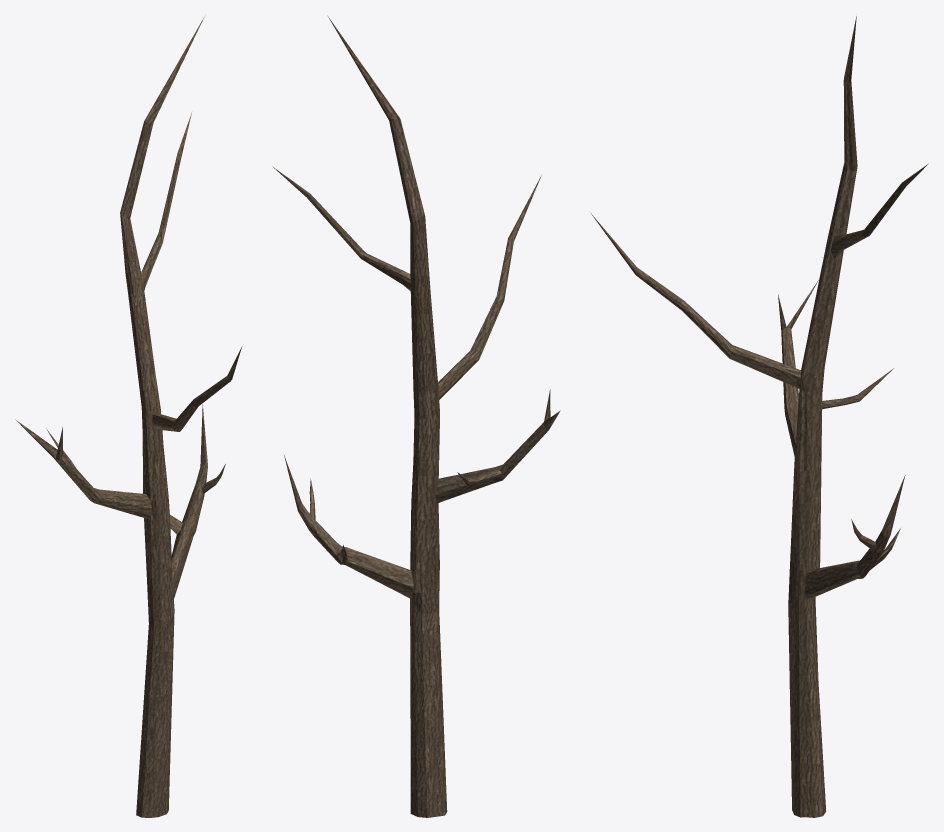
The model's file is arbolpochao.fbx.
3 renders of one model, left to right at view 1: azimuth 30°, elevation 25°; view 2: azimuth 150°, elevation 25°; view 3: azimuth 270°, elevation 25°, orthographic. The views are drawn at different scales.
Parts seen in each view (by area): view 1: Cylinder; view 2: Cylinder; view 3: Cylinder.
Part boxes in pixels (box(x1,y1,x2,y2)): Cylinder: box(15, 16, 242, 817); Cylinder: box(272, 15, 560, 817); Cylinder: box(591, 16, 928, 817).
Size of the model in its own units: 362 by 1159 by 427.
